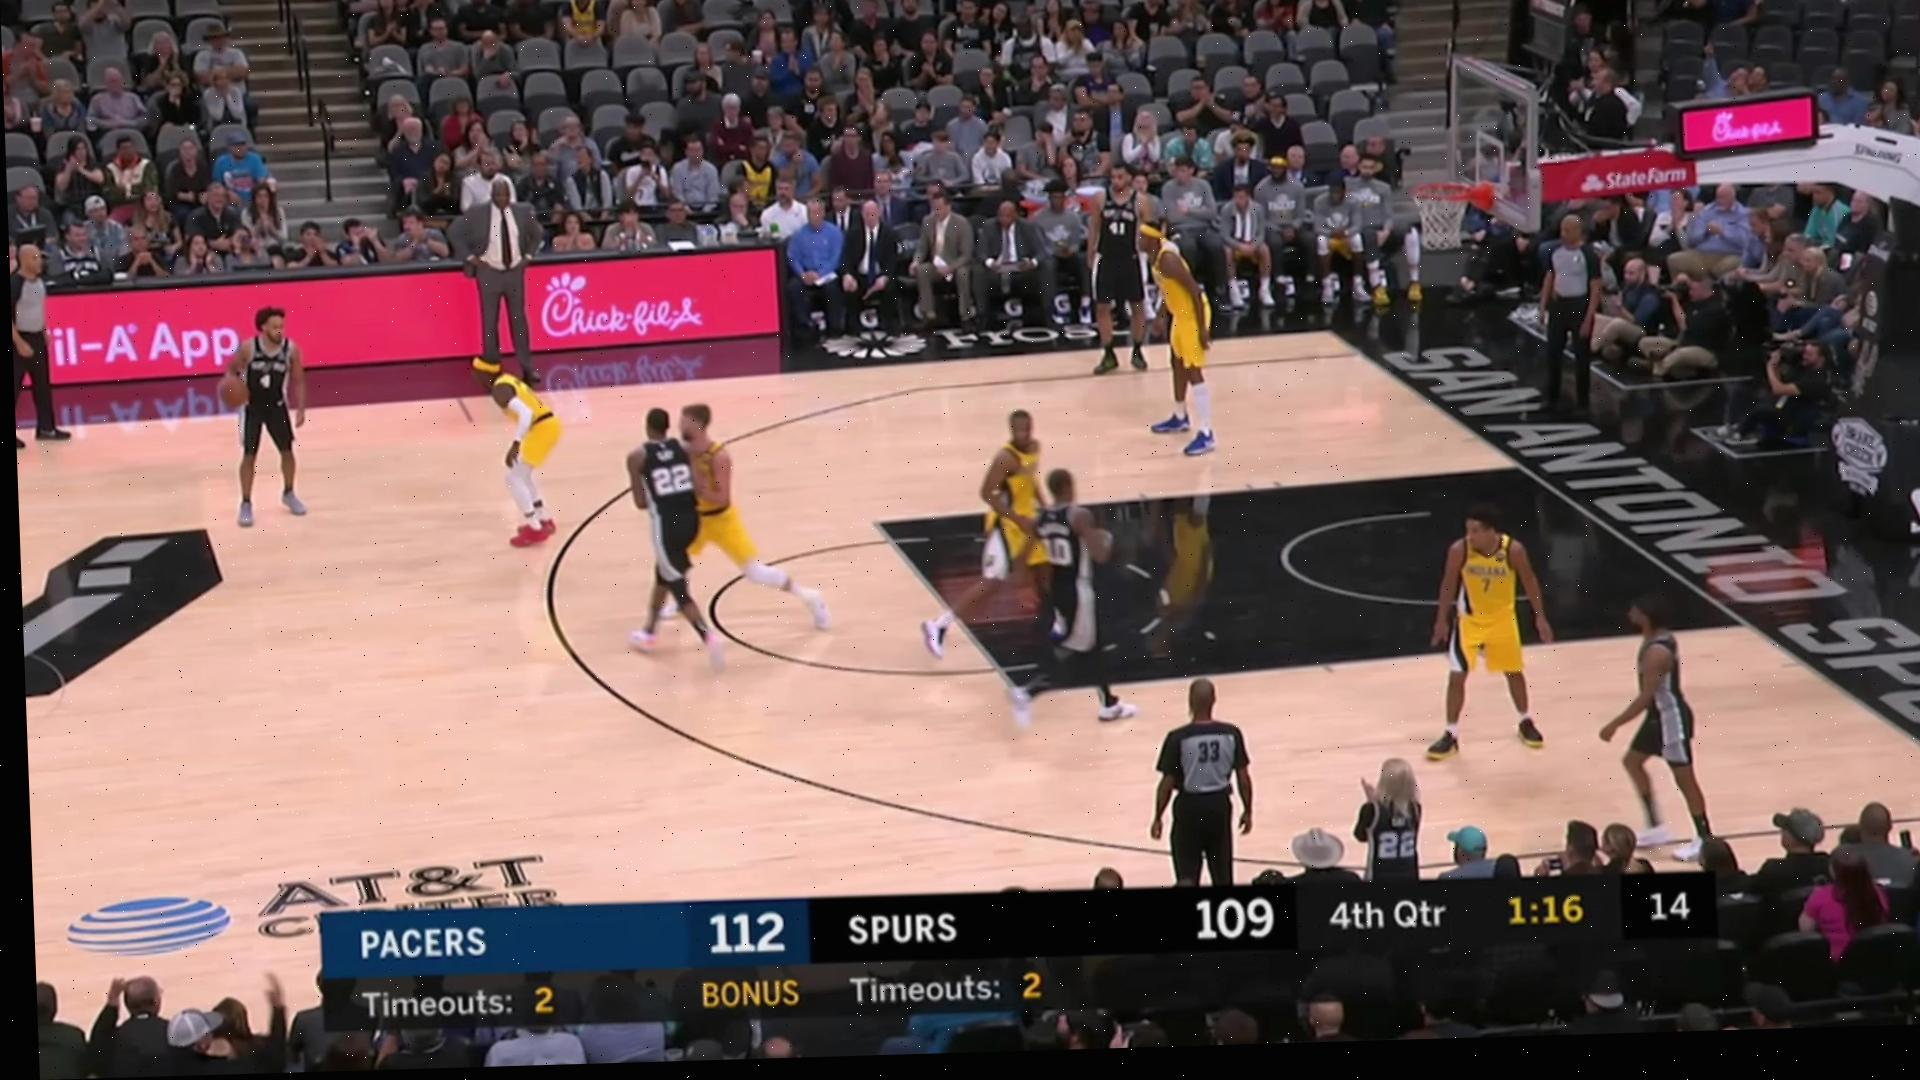no_foul: (618, 376, 789, 680)
